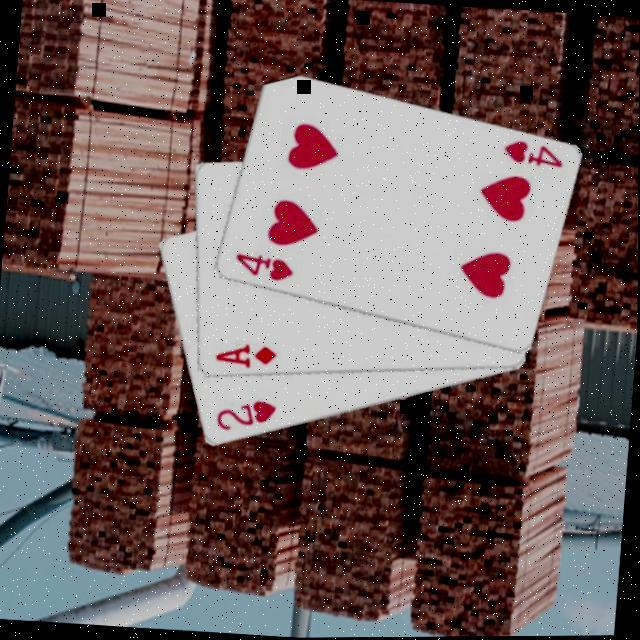2H: (214, 397, 281, 439)
4H: (500, 139, 567, 174), (232, 252, 298, 287)
AD: (213, 340, 281, 375)
